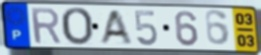5: (133, 9, 160, 47)
6: (204, 8, 231, 50), (173, 10, 199, 48)
A: (97, 9, 134, 46)
O: (59, 6, 95, 47)
R: (29, 7, 64, 46)
